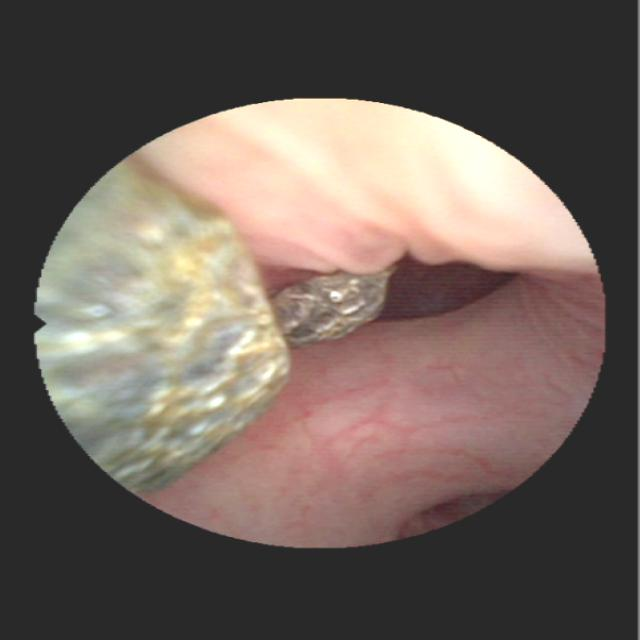stone: (40, 166, 394, 489)
tissue: (153, 106, 591, 537)
